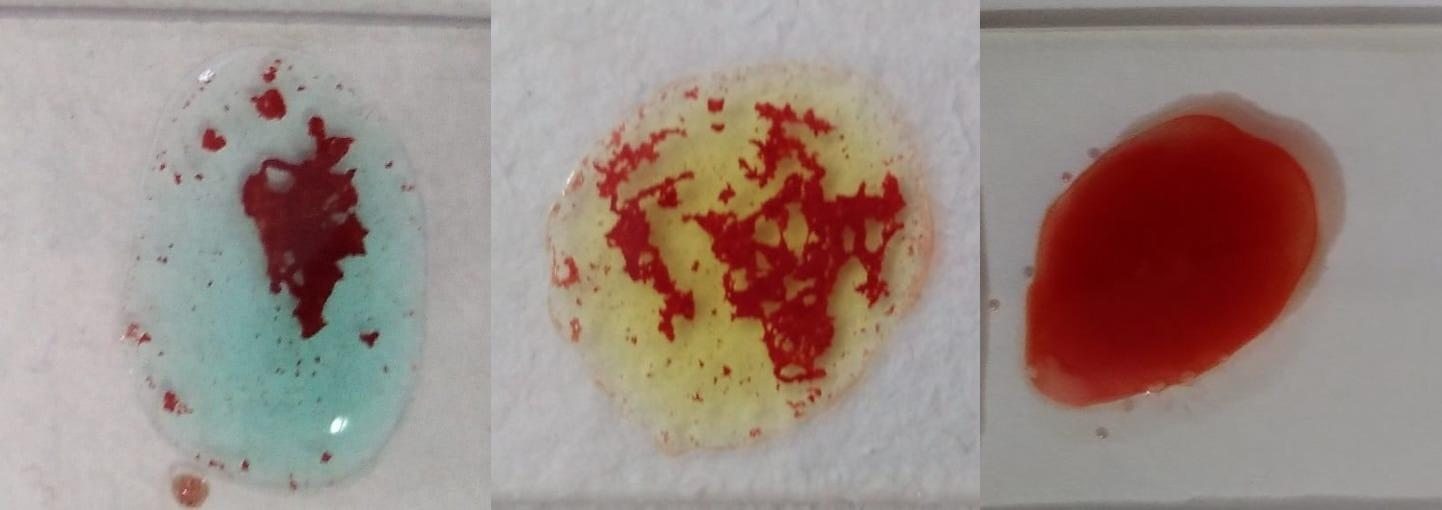A: (136, 44, 423, 494)
B: (560, 60, 919, 450)
